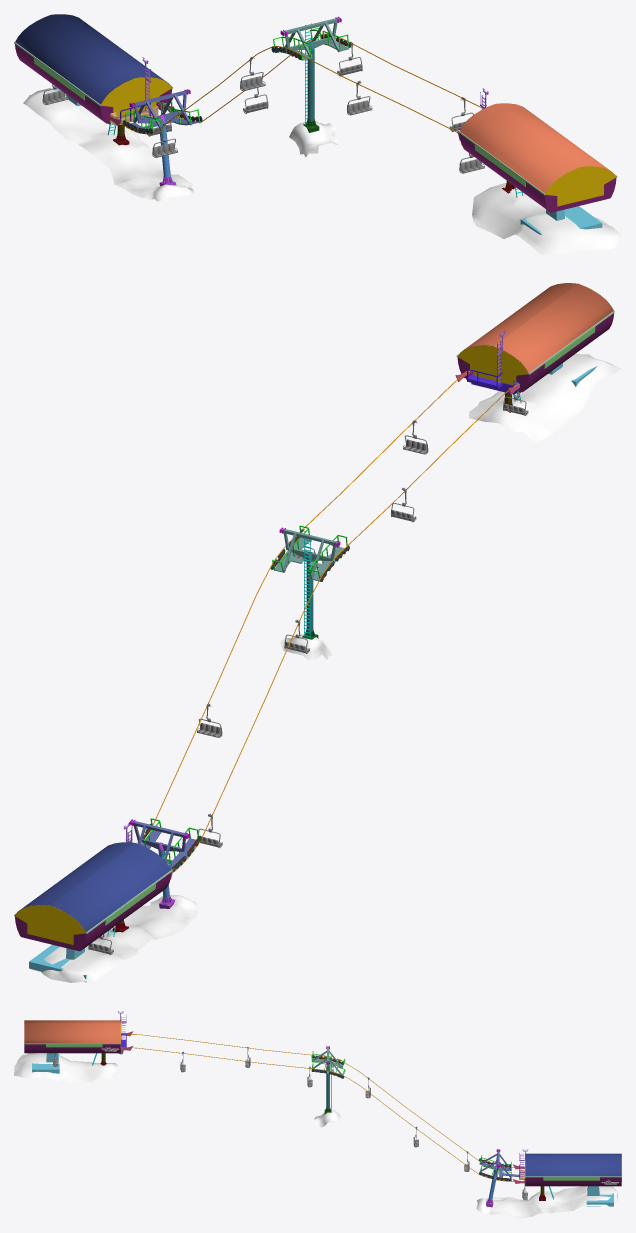
The model's file is Sketchfab_2017_09_02_17_41_10.fbx.
The picture shows the model from 3 angles, top to bottom: view 1: azimuth 30°, elevation 25°; view 2: azimuth 150°, elevation 25°; view 3: azimuth 270°, elevation 25°; orthographic projection. The views are drawn at different scales.
Visible parts, largest first — view 1: Neige, St Verre Haut, St Verre Bas, Fenetre Cote, St Bois, Plateforme pil Bas, Plateforme Pil Haut, BezierCurve, Socle Beton, Fenetre Rect, Pil Haut.001, Goutière (+5 smaller); view 2: Neige, St Verre Bas, St Verre Haut, Fenetre Cote, St Bois, BezierCurve, Plateforme Pil Haut, Plateforme pil Bas; view 3: Neige, St Verre Haut, St Verre Bas, St Bois, BezierCurve, Socle Beton, Fenetre Rect, Plateforme pil Bas, Goutière, Plateforme Pil Haut.
Part boxes in pixels (bbox=[...]): Neige: bbox=[23, 88, 621, 254]; St Verre Haut: bbox=[459, 103, 616, 193]; St Verre Bas: bbox=[15, 14, 171, 104]; Fenetre Cote: bbox=[100, 77, 615, 206]; St Bois: bbox=[15, 44, 616, 212]; Plateforme pil Bas: bbox=[126, 90, 198, 133]; Plateforme Pil Haut: bbox=[275, 17, 349, 60]; BezierCurve: bbox=[110, 33, 481, 134]; Socle Beton: bbox=[29, 88, 602, 234]; Fenetre Rect: bbox=[33, 58, 525, 186]; Pil Haut.001: bbox=[306, 41, 315, 127]; Goutière: bbox=[14, 41, 617, 195]; Neige: bbox=[31, 353, 621, 982]; St Verre Bas: bbox=[15, 842, 170, 931]; St Verre Haut: bbox=[458, 283, 613, 372]; Fenetre Cote: bbox=[15, 346, 528, 944]; St Bois: bbox=[15, 313, 614, 951]; BezierCurve: bbox=[152, 370, 518, 872]; Plateforme Pil Haut: bbox=[275, 528, 344, 581]; Plateforme pil Bas: bbox=[130, 820, 195, 869]; Neige: bbox=[14, 1053, 618, 1218]; St Verre Haut: bbox=[24, 1020, 120, 1043]; St Verre Bas: bbox=[525, 1153, 621, 1176]; St Bois: bbox=[24, 1044, 621, 1186]; BezierCurve: bbox=[121, 1034, 524, 1181]; Socle Beton: bbox=[32, 1053, 613, 1206]; Fenetre Rect: bbox=[46, 1044, 599, 1180]; Plateforme pil Bas: bbox=[480, 1149, 519, 1180]; Goutière: bbox=[24, 1023, 621, 1177]; Plateforme Pil Haut: bbox=[311, 1046, 342, 1078].
Bounding box in the file's own units: 2585 × 10119 × 28360.
